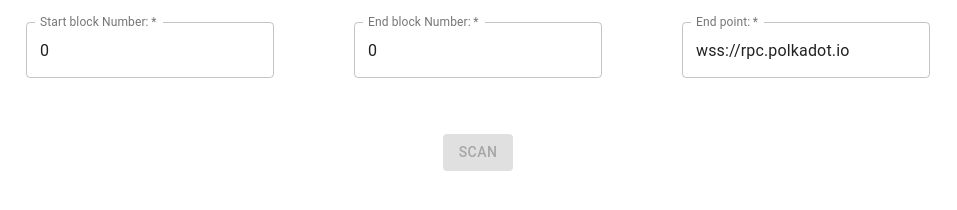
Test case: polkadot scanner form › validation of end block number
Numberic check
Replace the text in the field next to "End block Number:" with "a" at (478, 50), box [354,22,602,78]
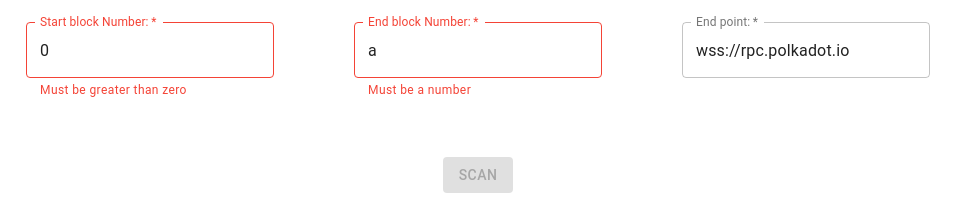
expect the text "Must be a number" is shown: met, box [368,83,471,97]
Replace the text in the field next to "Start block Number:" with "5" at (150, 50), box [26,22,274,78]
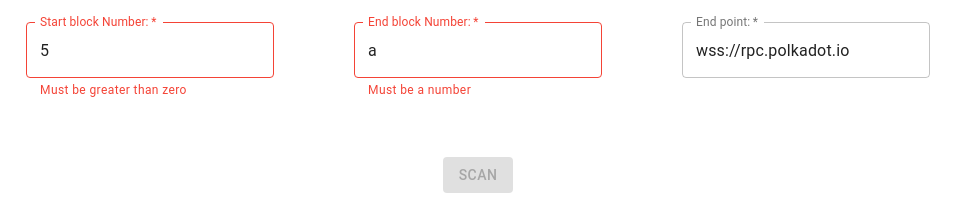
Replace the text in the field next to "End block Number:" with "3" at (478, 50), box [354,22,602,78]
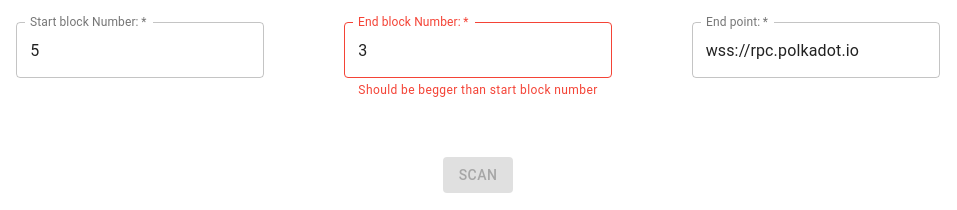
expect the text "Should be begger than start block number" is shown: met, box [358,81,598,101]
